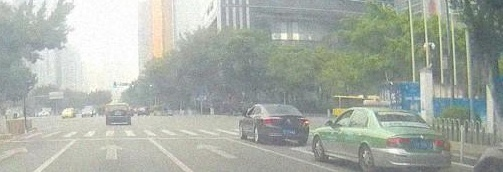L_light: (386, 136, 411, 147), (263, 117, 282, 126), (106, 110, 109, 115)
R_light: (434, 138, 450, 150), (298, 117, 309, 127), (127, 111, 131, 116)
T_light: (392, 110, 403, 113), (115, 104, 122, 106), (276, 106, 286, 107)
day-no: (371, 109, 451, 172), (105, 103, 131, 126)
day-right: (260, 105, 309, 144)
